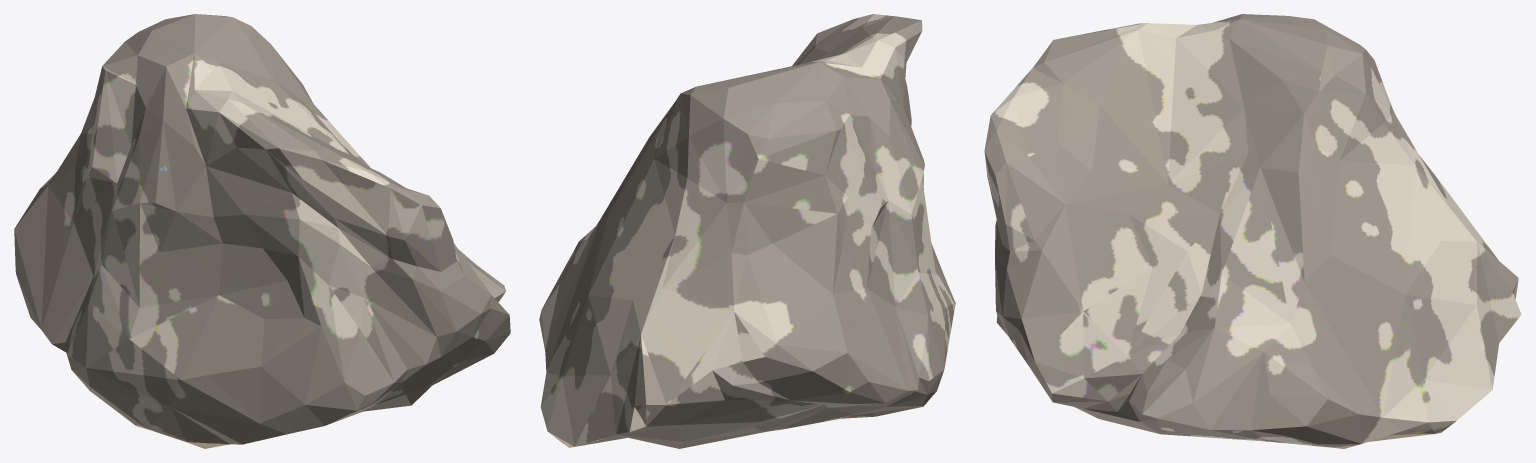
Rendered from RockGrayD.fbx.
The picture shows the model from 3 angles, left to right: view 1: azimuth 30°, elevation 25°; view 2: azimuth 150°, elevation 25°; view 3: azimuth 270°, elevation 25°; orthographic projection.
Visible parts, largest first — view 1: RockGrayD; view 2: RockGrayD; view 3: RockGrayD.
Part boxes in pixels (x1,y1,x2,y2): RockGrayD: [14, 14, 510, 448]; RockGrayD: [539, 14, 955, 448]; RockGrayD: [984, 14, 1521, 448].
Size of the model in its own units: 2.51 by 2.24 by 3.
1 material, 1 textured.
